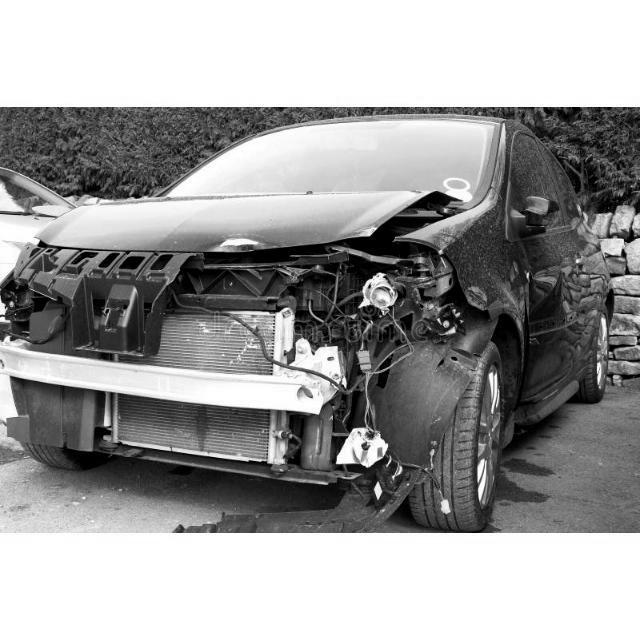Headlight-damage: (290, 241, 443, 327)
bonnet-dent: (42, 194, 455, 255)
fender-dent: (465, 265, 539, 372)
front-bumper-dent: (0, 274, 444, 527)
